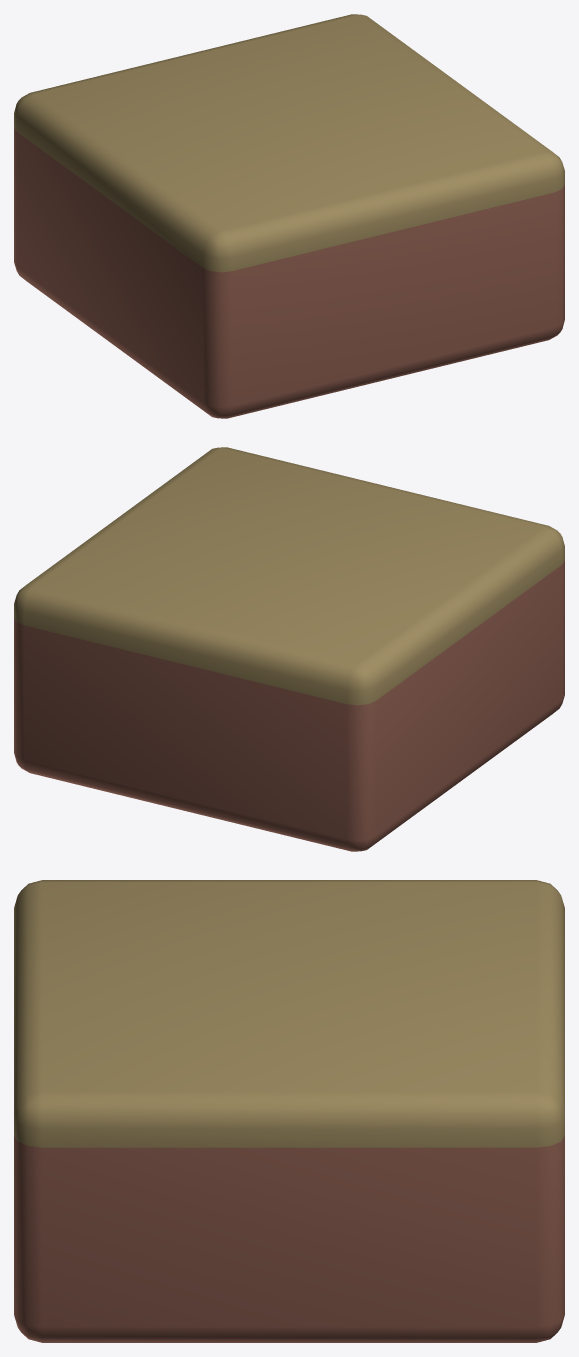
File: NewTile1.fbx
3 views of the same model, one above another, from view 1: azimuth 30°, elevation 25°; view 2: azimuth 150°, elevation 25°; view 3: azimuth 270°, elevation 25° (orthographic). The views are drawn at different scales.
Parts seen in each view (by area): view 1: Cube; view 2: Cube; view 3: Cube.
Boxes of the visible parts, x1,y1,x2,y2 form: Cube: (14, 14, 564, 418); Cube: (14, 447, 564, 851); Cube: (14, 880, 564, 1342).
Bounding box in the file's own units: 2 × 0.9953 × 2.
